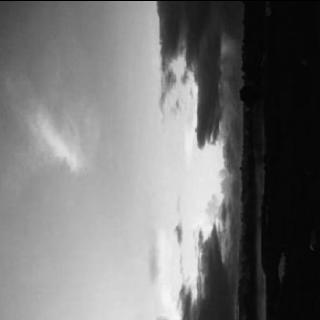Stratocumulus: (1, 0, 264, 320)
